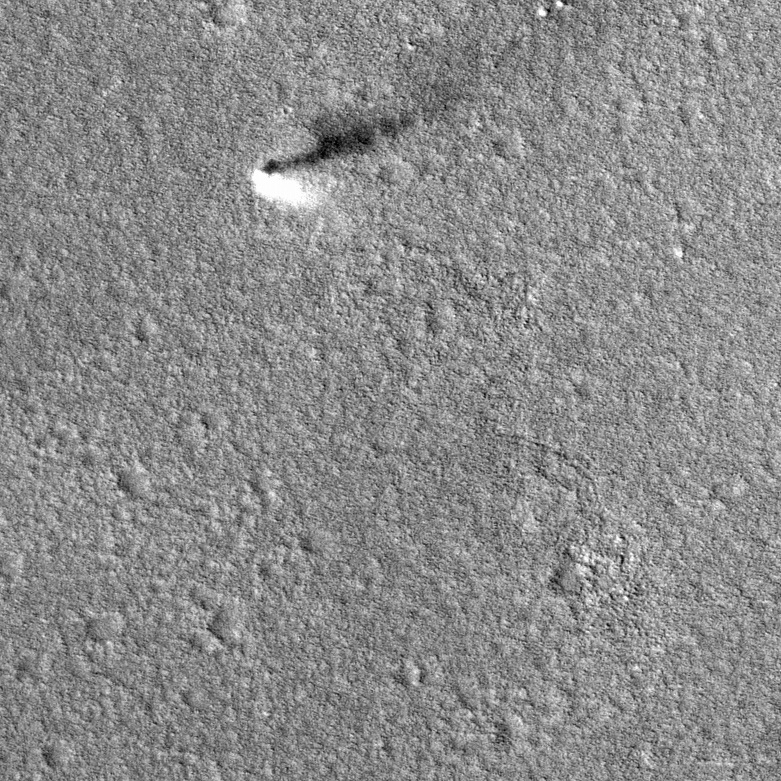dust_devil: (247, 99, 450, 213)
